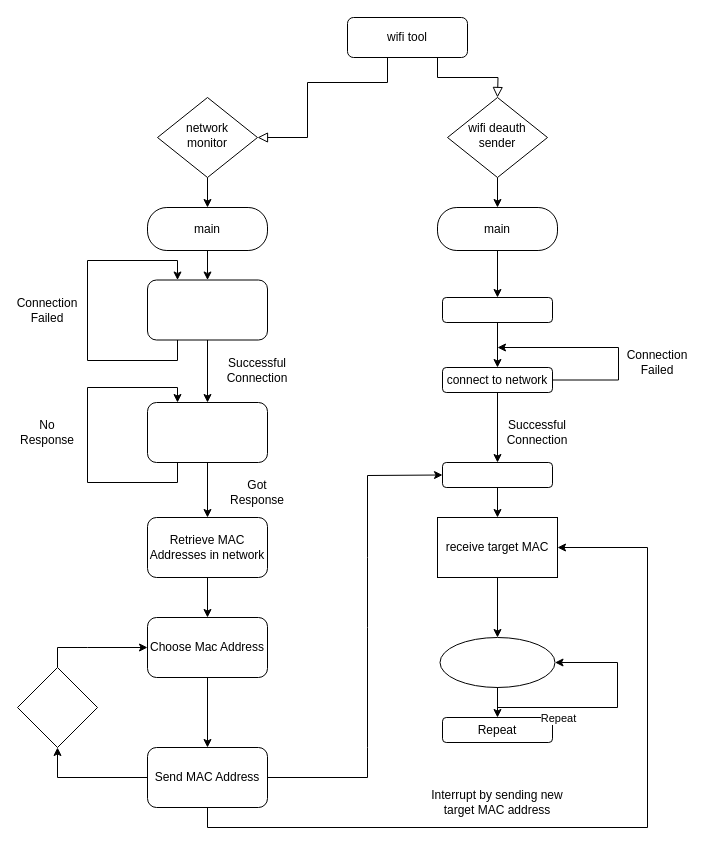
Image size: 705x853. Some labels were removed from this diagram. Here are the shapes that lost their labels. From the top down, the centre of each, then its label:
point 207,309: Connects to network
point 497,309: initialisation
point 207,432: Send ARP broadcast
point 497,475: wait for target mac address
point 497,662: send deauth packets
point 57,707: Wait for new choice
